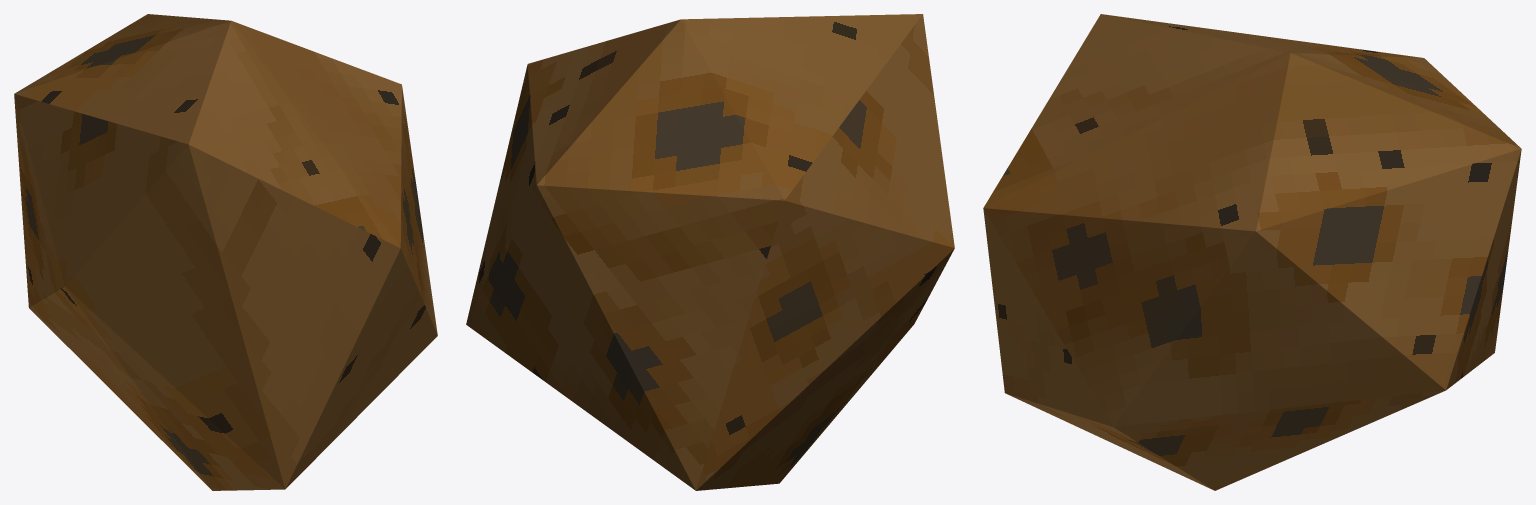
The model's file is Piedra 3.fbx.
3 renders of one model, left to right at view 1: azimuth 30°, elevation 25°; view 2: azimuth 150°, elevation 25°; view 3: azimuth 270°, elevation 25°, orthographic. The views are drawn at different scales.
Parts seen in each view (by area): view 1: Icosphere; view 2: Icosphere; view 3: Icosphere.
Boxes of the visible parts, <box> form: Icosphere: <box>14,14,437,490</box>; Icosphere: <box>466,14,954,490</box>; Icosphere: <box>983,14,1521,490</box>.
Size of the model in its own units: 275 by 314 by 328.
1 material, 1 textured.
